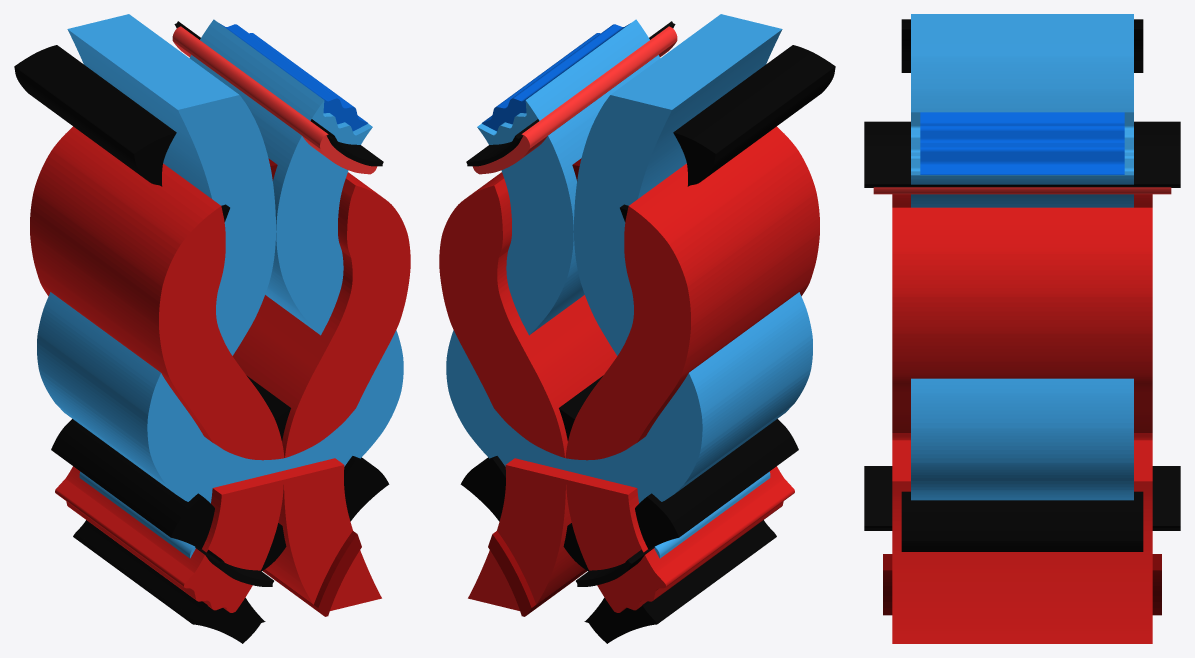
Rendered from U+1FAA2.obj.
3 renders of one model, left to right at view 1: azimuth 30°, elevation 25°; view 2: azimuth 150°, elevation 25°; view 3: azimuth 270°, elevation 25°, orthographic.
Visible parts, largest first — view 1: U+1FAA2_layer04_obj02, U+1FAA2_layer02_obj03, U+1FAA2_layer02_obj00, U+1FAA2_layer04_obj03, U+1FAA2_layer02_obj02, U+1FAA2_layer04_obj01, U+1FAA2_layer03_obj08, U+1FAA2_layer04_obj00, U+1FAA2_layer03_obj06, U+1FAA2_layer03_obj01, U+1FAA2_layer06_obj00, U+1FAA2_layer01_obj00 (+6 smaller); view 2: U+1FAA2_layer04_obj02, U+1FAA2_layer02_obj03, U+1FAA2_layer02_obj00, U+1FAA2_layer04_obj03, U+1FAA2_layer02_obj02, U+1FAA2_layer04_obj01, U+1FAA2_layer03_obj08, U+1FAA2_layer04_obj00, U+1FAA2_layer03_obj06, U+1FAA2_layer03_obj01, U+1FAA2_layer06_obj00, U+1FAA2_layer01_obj00 (+7 smaller); view 3: U+1FAA2_layer04_obj03, U+1FAA2_layer02_obj03, U+1FAA2_layer04_obj00, U+1FAA2_layer02_obj00, U+1FAA2_layer01_obj00, U+1FAA2_layer03_obj07, U+1FAA2_layer07_obj01, U+1FAA2_layer02_obj02, U+1FAA2_layer07_obj00, U+1FAA2_layer06_obj00, U+1FAA2_layer05_obj00, U+1FAA2_layer03_obj08 (+2 smaller).
Boxes of the visible parts, bbox=[...] form: U+1FAA2_layer04_obj02: bbox=[30, 126, 284, 460]; U+1FAA2_layer02_obj03: bbox=[37, 292, 403, 503]; U+1FAA2_layer02_obj00: bbox=[67, 14, 275, 355]; U+1FAA2_layer04_obj03: bbox=[232, 172, 410, 457]; U+1FAA2_layer02_obj02: bbox=[190, 19, 372, 335]; U+1FAA2_layer04_obj01: bbox=[55, 466, 283, 612]; U+1FAA2_layer03_obj08: bbox=[14, 45, 176, 186]; U+1FAA2_layer04_obj00: bbox=[265, 458, 381, 610]; U+1FAA2_layer03_obj06: bbox=[51, 419, 214, 549]; U+1FAA2_layer03_obj01: bbox=[73, 520, 262, 643]; U+1FAA2_layer06_obj00: bbox=[172, 26, 377, 174]; U+1FAA2_layer01_obj00: bbox=[219, 23, 367, 131]; U+1FAA2_layer04_obj02: bbox=[565, 126, 819, 460]; U+1FAA2_layer02_obj03: bbox=[446, 292, 812, 503]; U+1FAA2_layer02_obj00: bbox=[574, 14, 782, 355]; U+1FAA2_layer04_obj03: bbox=[439, 172, 617, 457]; U+1FAA2_layer02_obj02: bbox=[477, 19, 659, 335]; U+1FAA2_layer04_obj01: bbox=[566, 466, 794, 612]; U+1FAA2_layer03_obj08: bbox=[673, 45, 835, 186]; U+1FAA2_layer04_obj00: bbox=[468, 458, 584, 610]; U+1FAA2_layer03_obj06: bbox=[635, 419, 798, 549]; U+1FAA2_layer03_obj01: bbox=[587, 520, 776, 643]; U+1FAA2_layer06_obj00: bbox=[472, 26, 677, 174]; U+1FAA2_layer01_obj00: bbox=[482, 23, 630, 131]; U+1FAA2_layer04_obj03: bbox=[892, 207, 1152, 440]; U+1FAA2_layer02_obj03: bbox=[911, 378, 1133, 500]; U+1FAA2_layer04_obj00: bbox=[892, 451, 1152, 643]; U+1FAA2_layer02_obj00: bbox=[911, 14, 1133, 112]; U+1FAA2_layer01_obj00: bbox=[920, 112, 1124, 174]; U+1FAA2_layer03_obj07: bbox=[901, 491, 1143, 551]; U+1FAA2_layer07_obj01: bbox=[864, 121, 1180, 187]; U+1FAA2_layer02_obj02: bbox=[911, 112, 1133, 207]; U+1FAA2_layer07_obj00: bbox=[864, 466, 1180, 530]; U+1FAA2_layer06_obj00: bbox=[873, 187, 1171, 194]; U+1FAA2_layer05_obj00: bbox=[883, 554, 1161, 615]; U+1FAA2_layer03_obj08: bbox=[901, 19, 1143, 72].
Bounding box in the file's own units: 0.1718 × 0.3264 × 0.17.
